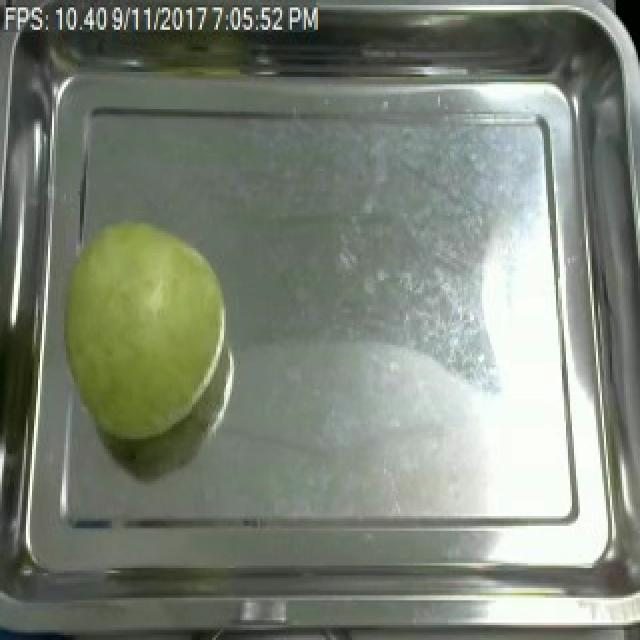Fruit: (34, 208, 240, 452)
